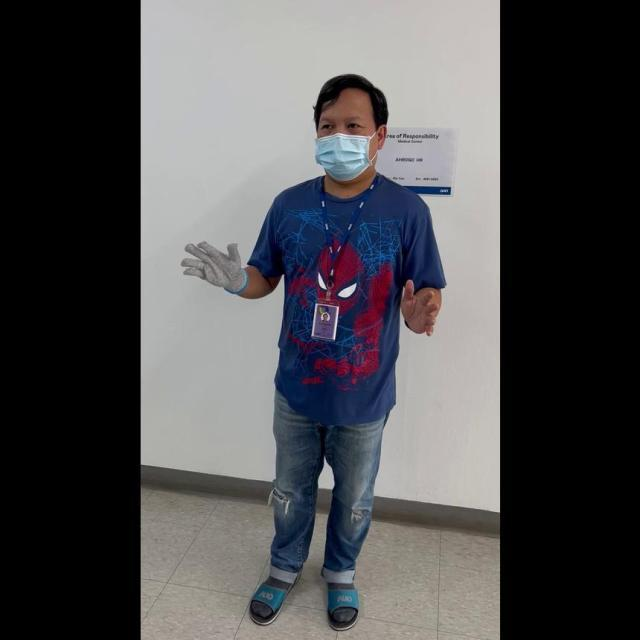bare_hand: (397, 275, 441, 339)
gloved_hand: (179, 234, 249, 295)
